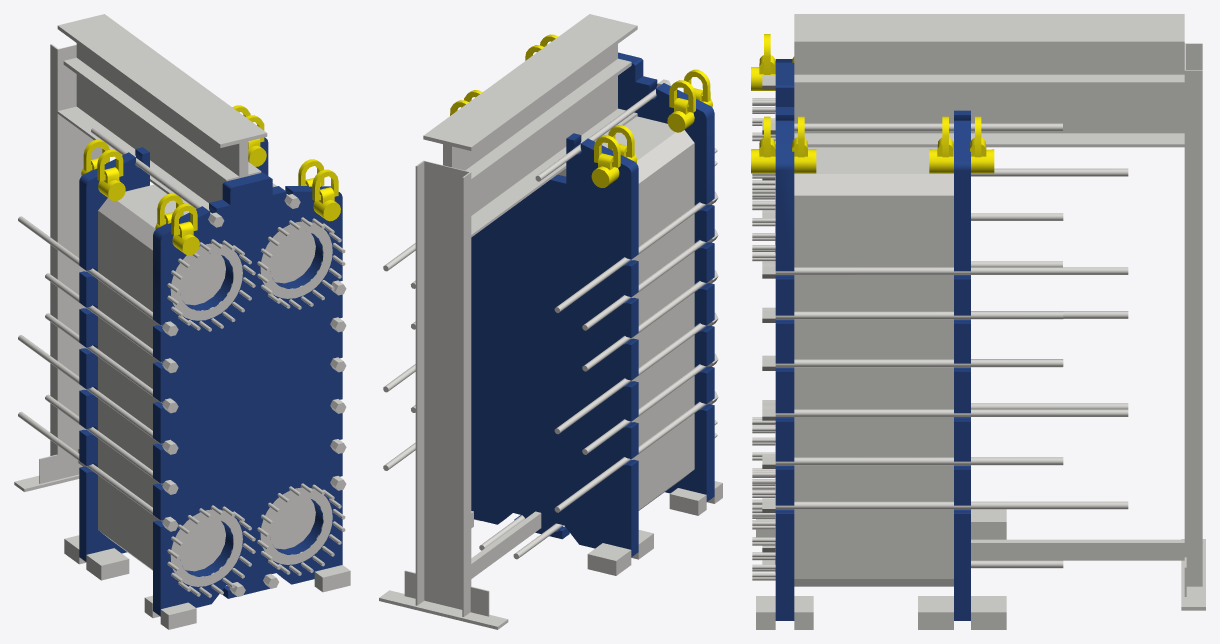
File: HVAC_Heat-Exchanger_Alfa-Laval_Alfa-Laval-TS50.fbx
3 renders of one model, left to right at view 1: azimuth 30°, elevation 25°; view 2: azimuth 150°, elevation 25°; view 3: azimuth 270°, elevation 25°, orthographic. The views are drawn at different scales.
Visible parts, largest first — view 1: L_0e6d489b_5c5f_4767_9fa5_c0dda097bf23_I2, L_95749dc1_69a0_4319_ab54_48288c654472_I8, L_532f742a_5428_4a8d_b2e3_ee77785d829c_I6, L_0f95c99c_548a_457f_9af1_a401b1c64625_I3, L_070eea9a_daef_4180_8c1d_1034da4de657_I1, L_726214f9_5d5d_4e06_9136_cd39c09943dc_I7, L_fbba5516_e12e_4c51_aa52_053be5659a09_I14, L_19d873c0_b0b0_4d23_b479_eabb2b9d6fe6_I4, L_4cda3ab8_82d2_4da3_89be_2f3d524598e9_I5, L_fc53db6e_c241_4b76_b1b1_18149c25e53e_I15, L_9afbdbab_1261_4ccf_bdee_8b0aa14b151a_I9, L_cc5c9fc1_b841_4d2e_80a8_3e8c666eea9b_I11 (+2 smaller); view 2: L_0f95c99c_548a_457f_9af1_a401b1c64625_I3, L_95749dc1_69a0_4319_ab54_48288c654472_I8, L_532f742a_5428_4a8d_b2e3_ee77785d829c_I6, L_0e6d489b_5c5f_4767_9fa5_c0dda097bf23_I2, L_726214f9_5d5d_4e06_9136_cd39c09943dc_I7, L_9afbdbab_1261_4ccf_bdee_8b0aa14b151a_I9, L_ebf308e7_1398_4094_9f8f_19522d54bf39_I13, L_fc53db6e_c241_4b76_b1b1_18149c25e53e_I15, L_dbdd61ed_3e28_43b8_b6ed_7c121b3ec944_I12, L_4cda3ab8_82d2_4da3_89be_2f3d524598e9_I5, L_adceaca8_8dc1_4e74_a72d_b00f87238660_I10, L_cc5c9fc1_b841_4d2e_80a8_3e8c666eea9b_I11; view 3: L_532f742a_5428_4a8d_b2e3_ee77785d829c_I6, L_95749dc1_69a0_4319_ab54_48288c654472_I8, L_726214f9_5d5d_4e06_9136_cd39c09943dc_I7, L_0e6d489b_5c5f_4767_9fa5_c0dda097bf23_I2, L_0f95c99c_548a_457f_9af1_a401b1c64625_I3, L_fbba5516_e12e_4c51_aa52_053be5659a09_I14, L_ebf308e7_1398_4094_9f8f_19522d54bf39_I13, L_9afbdbab_1261_4ccf_bdee_8b0aa14b151a_I9, L_19d873c0_b0b0_4d23_b479_eabb2b9d6fe6_I4, L_cc5c9fc1_b841_4d2e_80a8_3e8c666eea9b_I11, L_4cda3ab8_82d2_4da3_89be_2f3d524598e9_I5, L_adceaca8_8dc1_4e74_a72d_b00f87238660_I10 (+1 smaller).
Part boxes in pixels (x1,y1,x2,y2): L_0e6d489b_5c5f_4767_9fa5_c0dda097bf23_I2: (153, 172, 342, 616); L_95749dc1_69a0_4319_ab54_48288c654472_I8: (14, 14, 267, 491); L_532f742a_5428_4a8d_b2e3_ee77785d829c_I6: (98, 183, 315, 571); L_0f95c99c_548a_457f_9af1_a401b1c64625_I3: (79, 137, 268, 561); L_070eea9a_daef_4180_8c1d_1034da4de657_I1: (170, 221, 332, 586); L_726214f9_5d5d_4e06_9136_cd39c09943dc_I7: (18, 127, 288, 587); L_fbba5516_e12e_4c51_aa52_053be5659a09_I14: (167, 217, 345, 597); L_19d873c0_b0b0_4d23_b479_eabb2b9d6fe6_I4: (162, 194, 346, 596); L_4cda3ab8_82d2_4da3_89be_2f3d524598e9_I5: (144, 565, 350, 629); L_fc53db6e_c241_4b76_b1b1_18149c25e53e_I15: (157, 159, 338, 235); L_9afbdbab_1261_4ccf_bdee_8b0aa14b151a_I9: (64, 535, 129, 580); L_cc5c9fc1_b841_4d2e_80a8_3e8c666eea9b_I11: (155, 178, 340, 255); L_0f95c99c_548a_457f_9af1_a401b1c64625_I3: (471, 133, 638, 556); L_95749dc1_69a0_4319_ab54_48288c654472_I8: (379, 14, 637, 629); L_532f742a_5428_4a8d_b2e3_ee77785d829c_I6: (558, 116, 694, 510); L_0e6d489b_5c5f_4767_9fa5_c0dda097bf23_I2: (618, 52, 714, 501); L_726214f9_5d5d_4e06_9136_cd39c09943dc_I7: (383, 89, 709, 559); L_9afbdbab_1261_4ccf_bdee_8b0aa14b151a_I9: (471, 511, 653, 575); L_ebf308e7_1398_4094_9f8f_19522d54bf39_I13: (471, 511, 541, 578); L_fc53db6e_c241_4b76_b1b1_18149c25e53e_I15: (525, 34, 710, 112); L_dbdd61ed_3e28_43b8_b6ed_7c121b3ec944_I12: (450, 90, 634, 167); L_4cda3ab8_82d2_4da3_89be_2f3d524598e9_I5: (669, 481, 722, 515); L_adceaca8_8dc1_4e74_a72d_b00f87238660_I10: (591, 144, 636, 187); L_cc5c9fc1_b841_4d2e_80a8_3e8c666eea9b_I11: (667, 88, 712, 132); L_532f742a_5428_4a8d_b2e3_ee77785d829c_I6: (794, 147, 953, 586); L_95749dc1_69a0_4319_ab54_48288c654472_I8: (794, 14, 1205, 610); L_726214f9_5d5d_4e06_9136_cd39c09943dc_I7: (775, 123, 1128, 568); L_0e6d489b_5c5f_4767_9fa5_c0dda097bf23_I2: (775, 59, 794, 620); L_0f95c99c_548a_457f_9af1_a401b1c64625_I3: (954, 110, 970, 620); L_fbba5516_e12e_4c51_aa52_053be5659a09_I14: (752, 98, 775, 580); L_ebf308e7_1398_4094_9f8f_19522d54bf39_I13: (971, 539, 1184, 560); L_9afbdbab_1261_4ccf_bdee_8b0aa14b151a_I9: (918, 509, 1006, 629); L_19d873c0_b0b0_4d23_b479_eabb2b9d6fe6_I4: (762, 75, 775, 564); L_cc5c9fc1_b841_4d2e_80a8_3e8c666eea9b_I11: (751, 55, 816, 173); L_4cda3ab8_82d2_4da3_89be_2f3d524598e9_I5: (756, 519, 813, 629); L_adceaca8_8dc1_4e74_a72d_b00f87238660_I10: (929, 137, 994, 173).
Size of the model in its own units: 1550 by 2795 by 3723.
